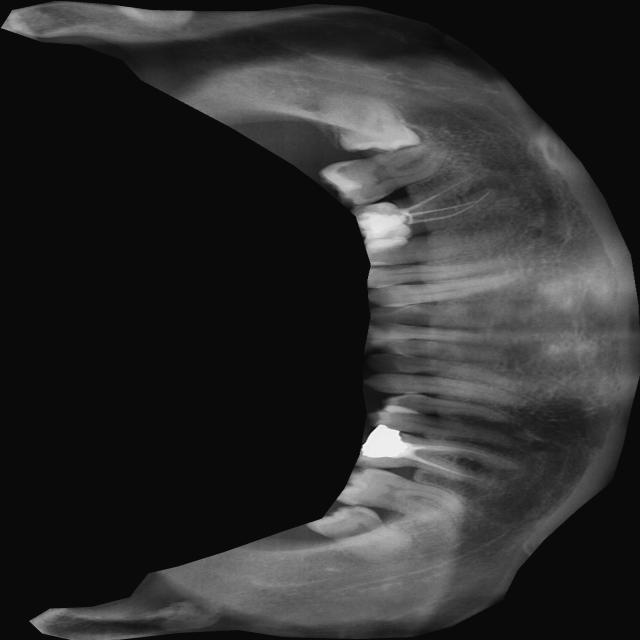mandibula: (1, 0, 640, 640)
